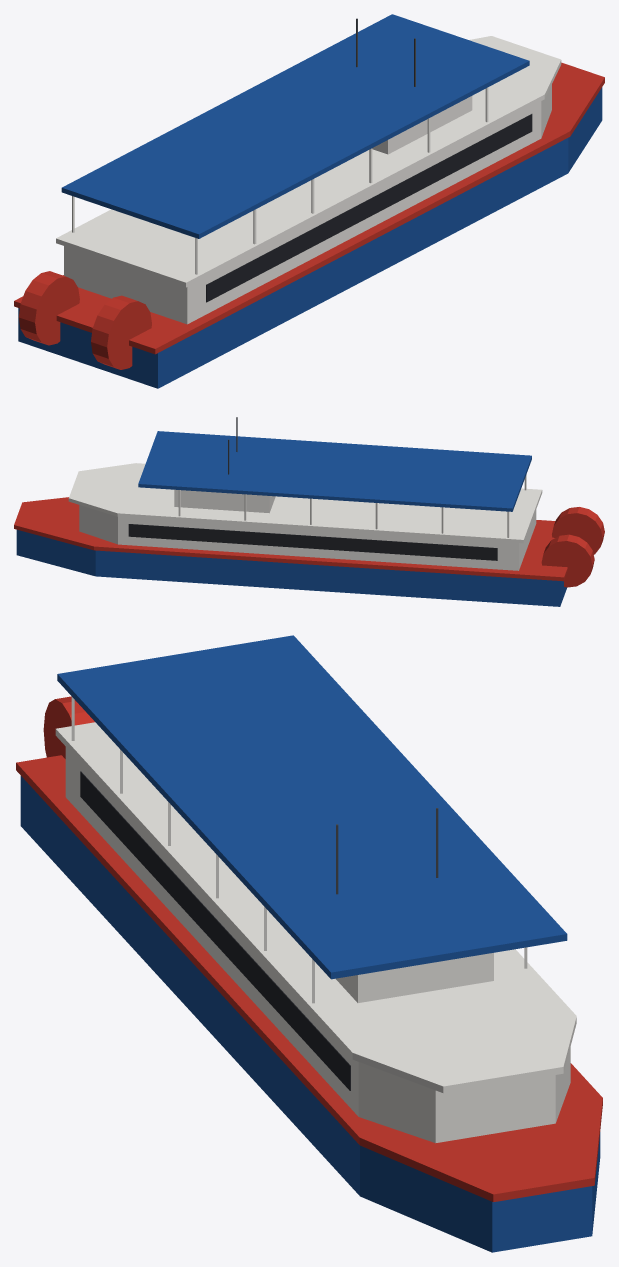
File: br_v257_riverboat.gltf
The picture shows the model from 3 angles, top to bottom: view 1: azimuth 30°, elevation 25°; view 2: azimuth 150°, elevation 25°; view 3: azimuth 270°, elevation 25°; orthographic projection. The views are drawn at different scales.
Parts seen in each view (by area): view 1: br_v257_riverboat; view 2: br_v257_riverboat; view 3: br_v257_riverboat.
Boxes of the visible parts, left/top/right/bottom form: br_v257_riverboat: left=14, top=14, right=604, bottom=388; br_v257_riverboat: left=14, top=417, right=604, bottom=606; br_v257_riverboat: left=16, top=635, right=602, bottom=1252.
Size of the model in its own units: 53.33 by 13.3 by 27.33.
